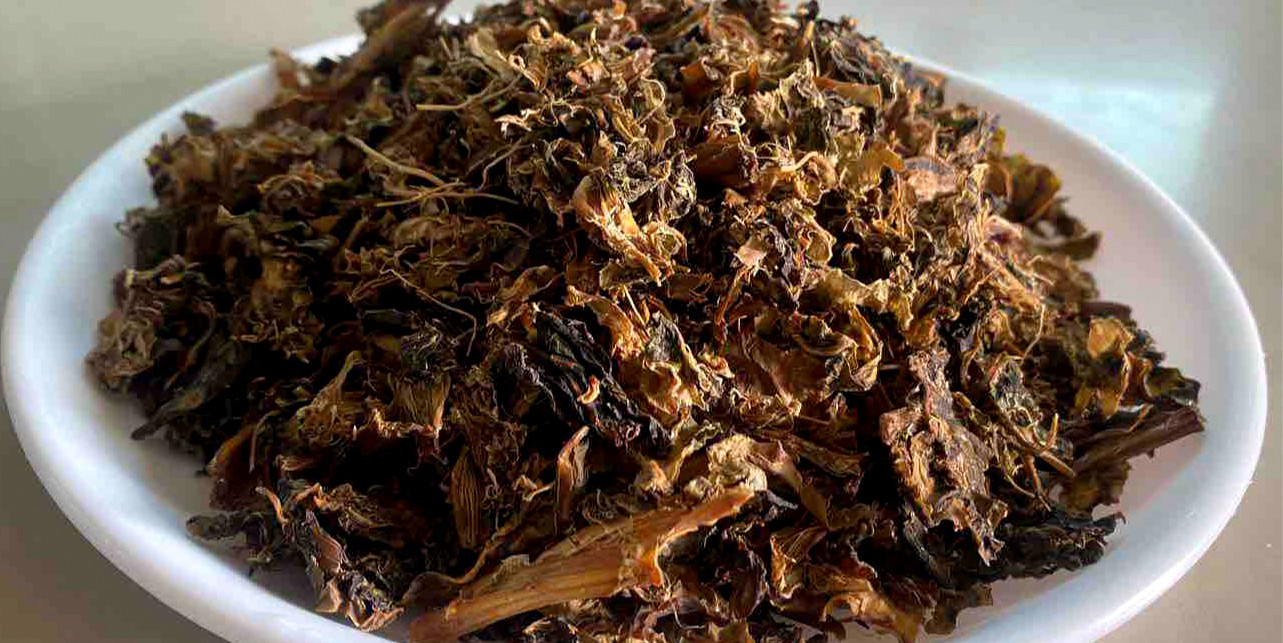gundruk: (133, 10, 1207, 596)
